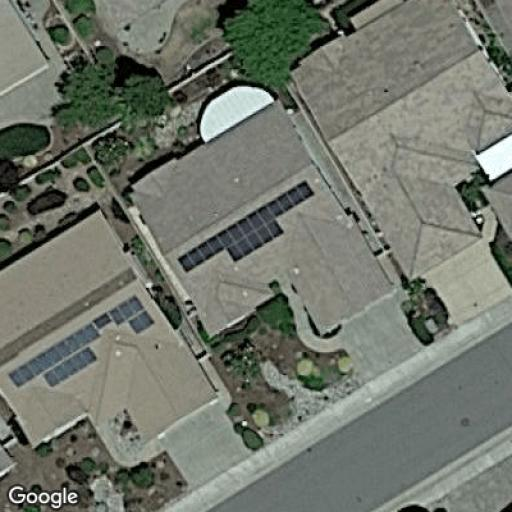solar-panel: (5, 293, 157, 390), (175, 179, 318, 274)
